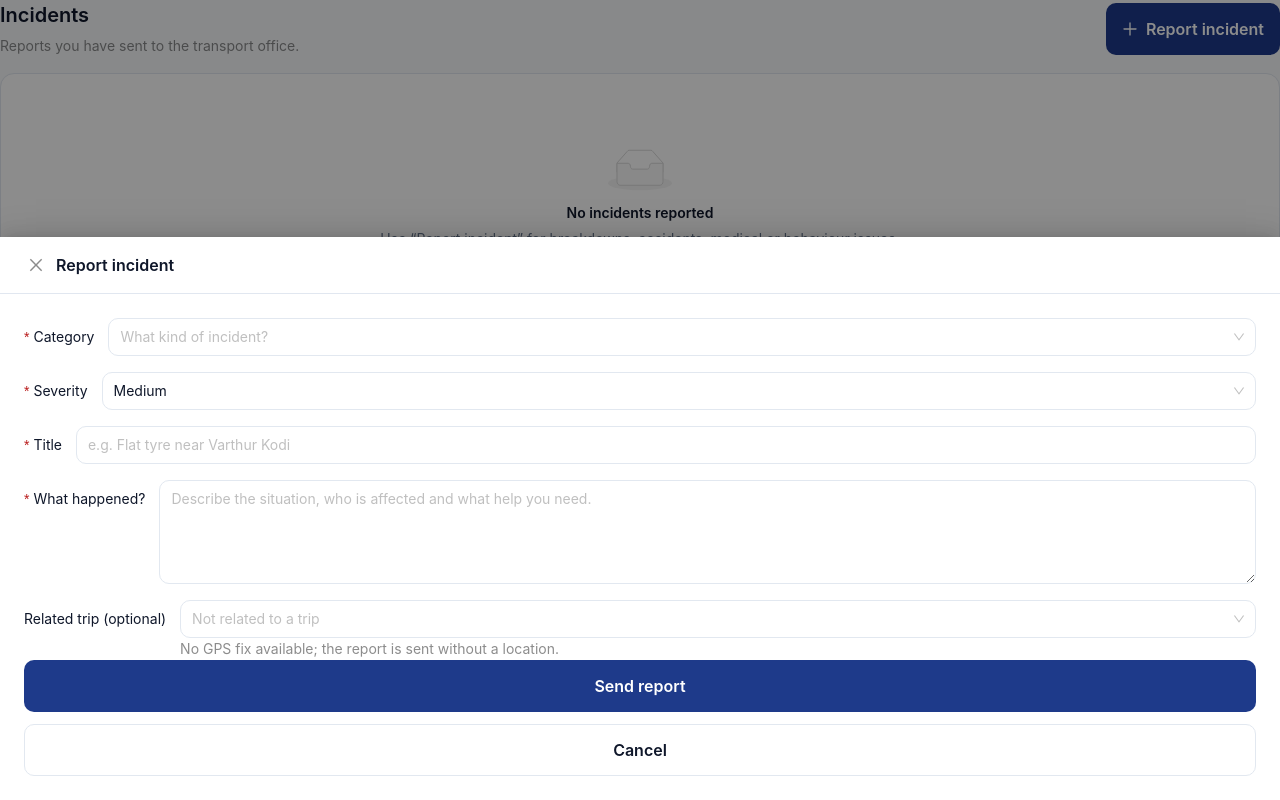
Test: DriverIncidentsPage › validates the report form before posting
Step 1. Click the button "Send report" → (640, 686), box [24,660,1256,712]
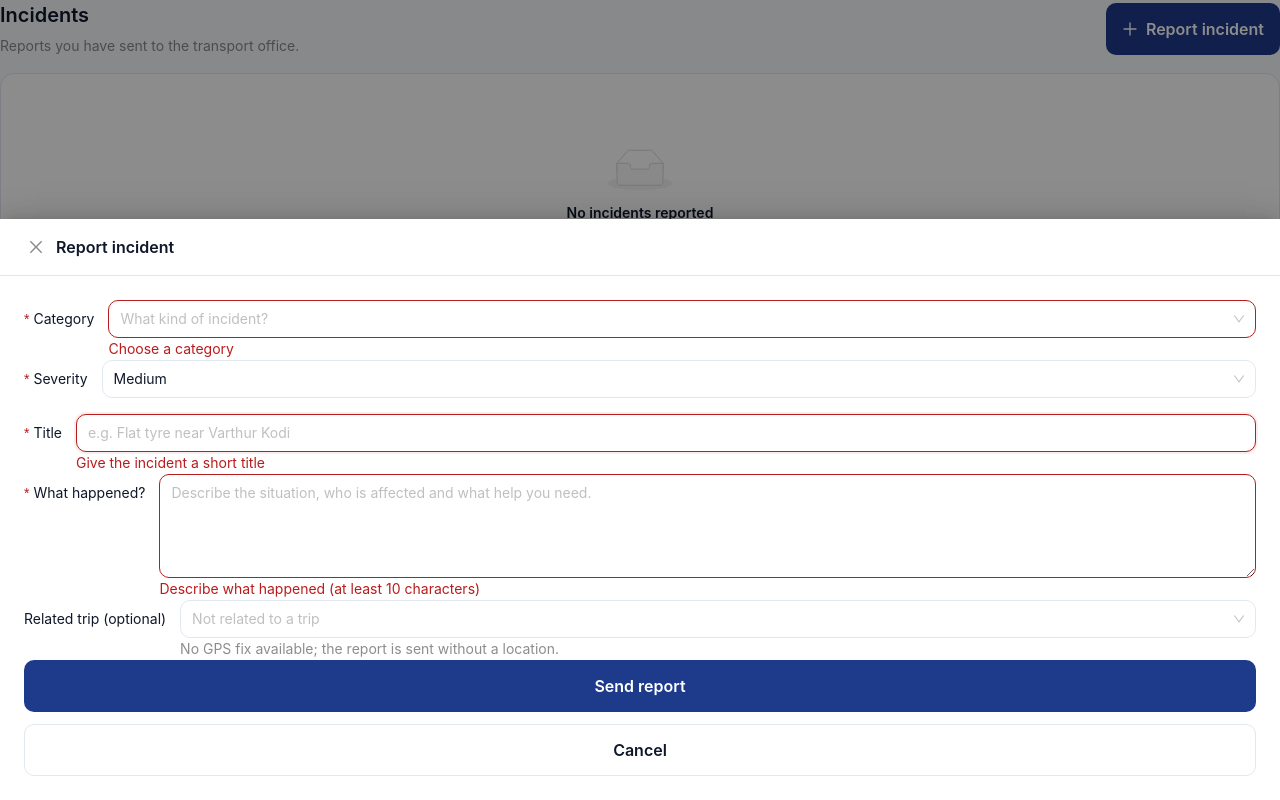
Expected: the text "Choose a category" is shown, [108,340,234,357]
Expected: the text "Give the incident a short title" is shown, [76,454,265,471]
Expected: the text "Describe what happened (at least 10 characters)" is shown, [160,580,480,597]
